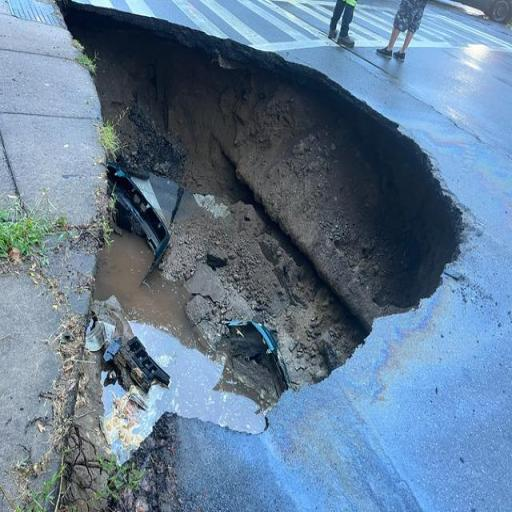Concentric_Crack: (56, 3, 462, 511)
